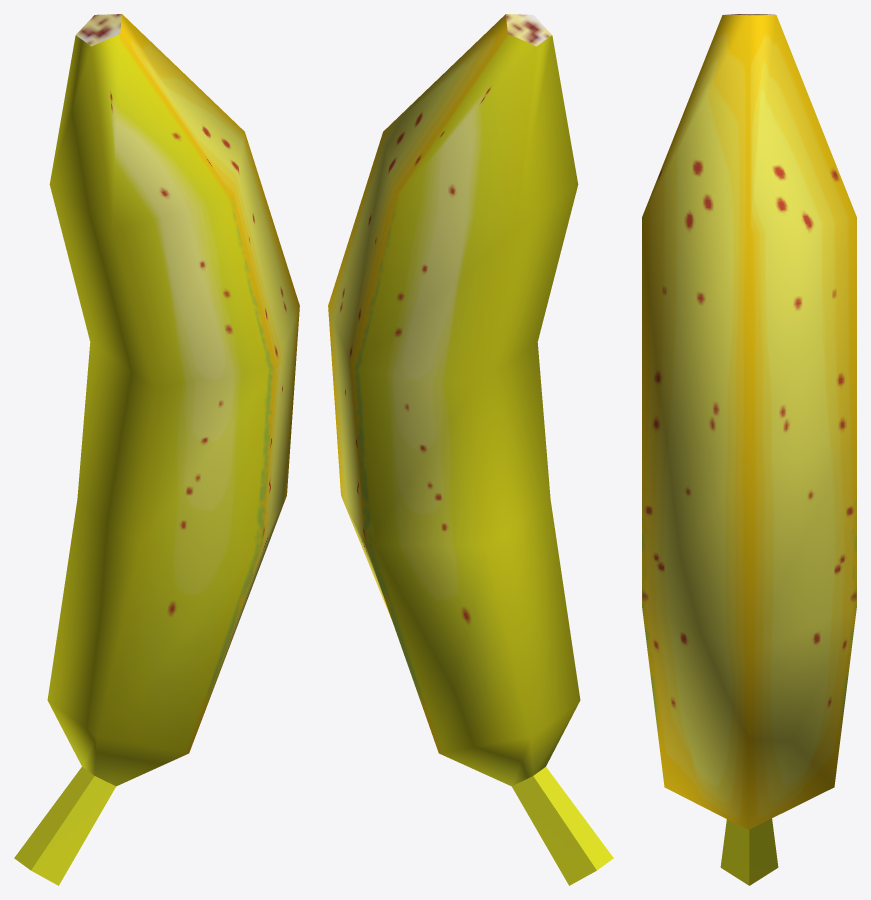
File: Ban.FBX
3 views of the same model, side by side, from view 1: azimuth 30°, elevation 25°; view 2: azimuth 150°, elevation 25°; view 3: azimuth 270°, elevation 25° (orthographic). The views are drawn at different scales.
Visible parts, largest first — view 1: Cylinder001; view 2: Cylinder001; view 3: Cylinder001.
Part boxes in pixels (left/top/right/bottom): Cylinder001: left=14, top=14, right=299, bottom=885; Cylinder001: left=328, top=14, right=613, bottom=885; Cylinder001: left=642, top=14, right=856, bottom=885.
Bounding box in the file's own units: 9.88 × 29.06 × 6.27.
